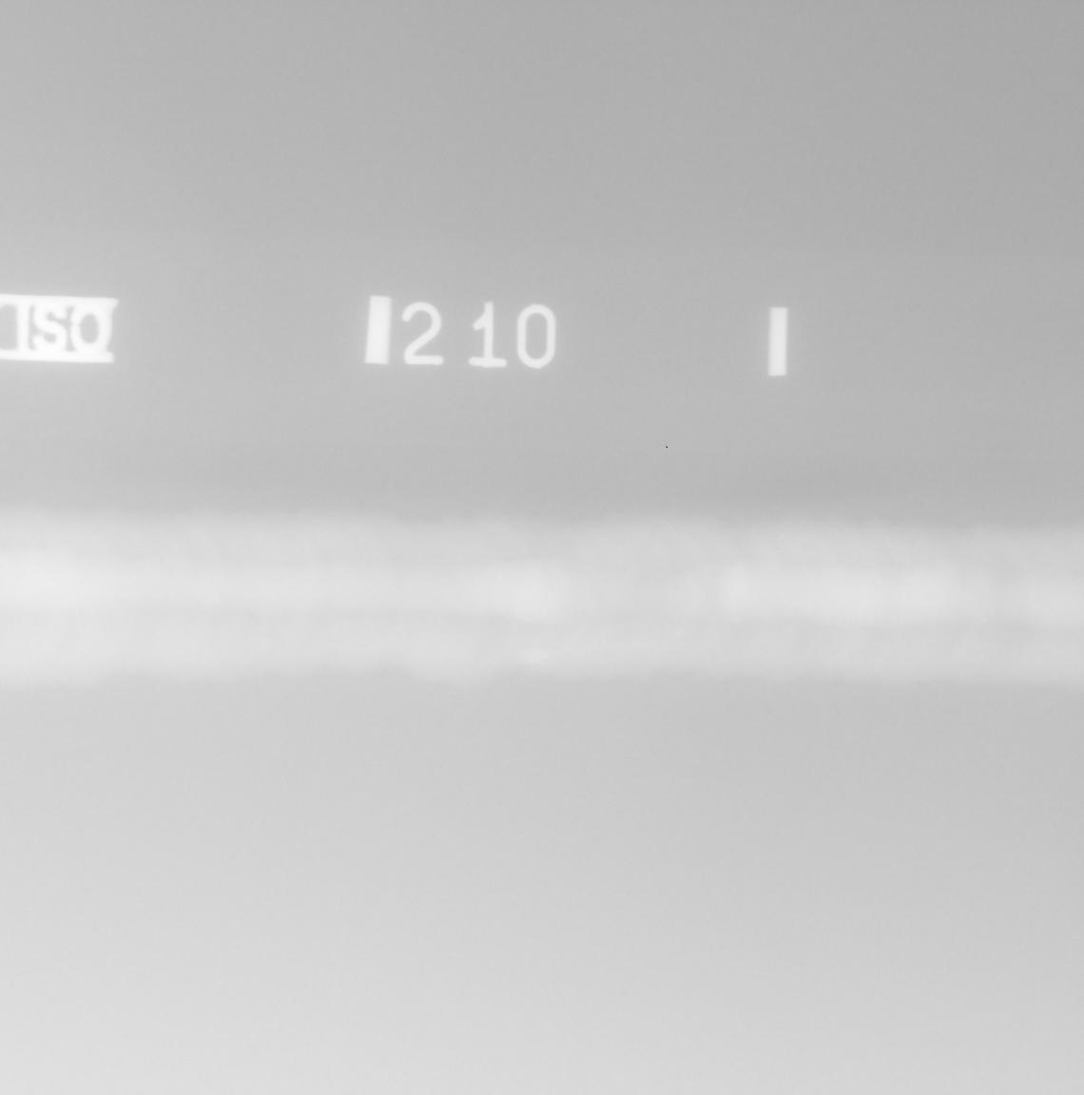Pore/Porosity: (245, 610, 259, 623)
